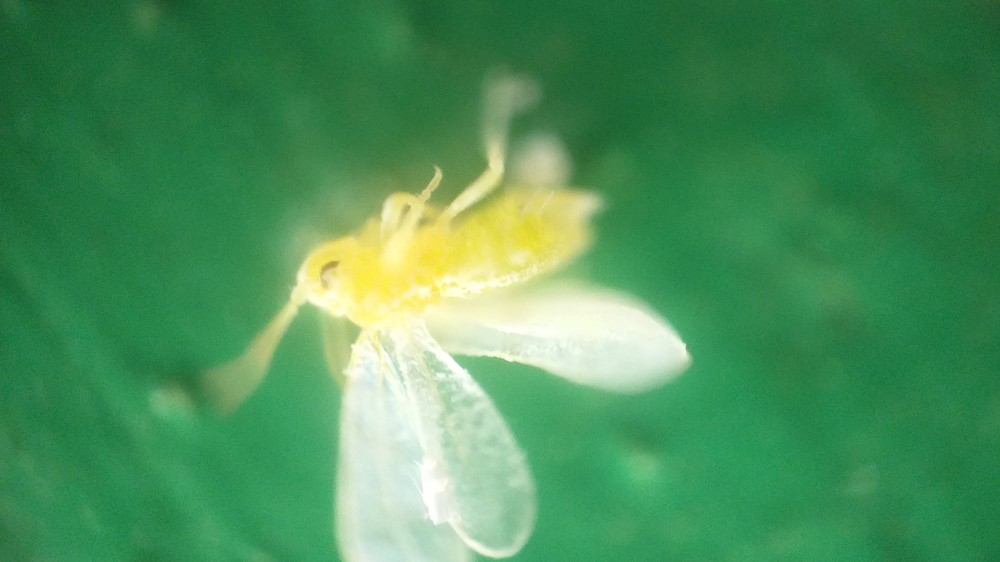Mosca Blanca: (220, 96, 712, 558)
